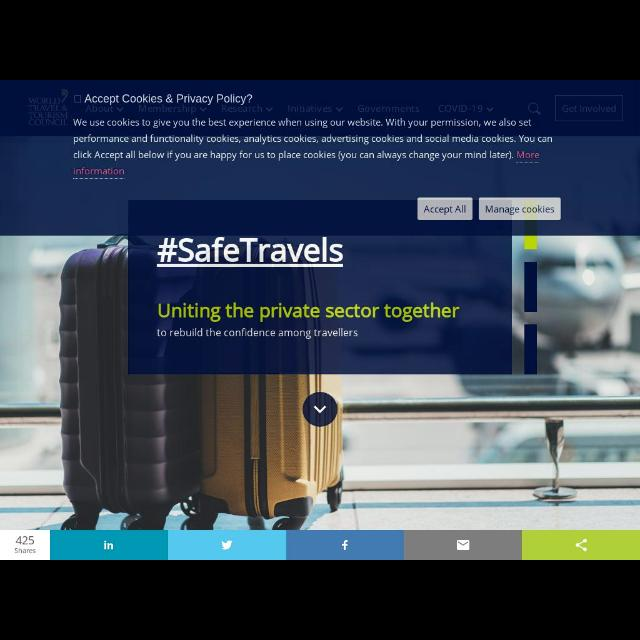button: (51, 530, 167, 560), (288, 531, 404, 559), (168, 532, 288, 558), (404, 532, 522, 558), (524, 532, 638, 558), (304, 393, 338, 425)
icon: (526, 98, 542, 116), (574, 538, 590, 552), (456, 540, 469, 550), (314, 404, 326, 414), (102, 540, 114, 550), (220, 540, 232, 550), (485, 105, 495, 113), (115, 105, 123, 113), (336, 105, 344, 113), (342, 540, 348, 550), (199, 106, 207, 112), (265, 105, 273, 111)
image: (26, 90, 68, 128)
spinner: (436, 102, 494, 114), (140, 104, 208, 114), (222, 104, 274, 114), (288, 104, 344, 112), (86, 106, 124, 114)
text: (73, 117, 553, 175), (156, 302, 460, 322), (159, 235, 343, 268), (158, 328, 360, 338), (85, 92, 252, 104), (484, 204, 554, 216), (138, 102, 196, 116), (560, 104, 618, 115), (358, 104, 420, 114), (422, 204, 468, 216), (14, 534, 36, 556), (286, 104, 332, 114), (436, 103, 482, 113), (221, 104, 263, 114), (86, 105, 112, 114)
textbutton: (480, 197, 562, 219), (556, 96, 624, 120), (418, 197, 472, 219)
